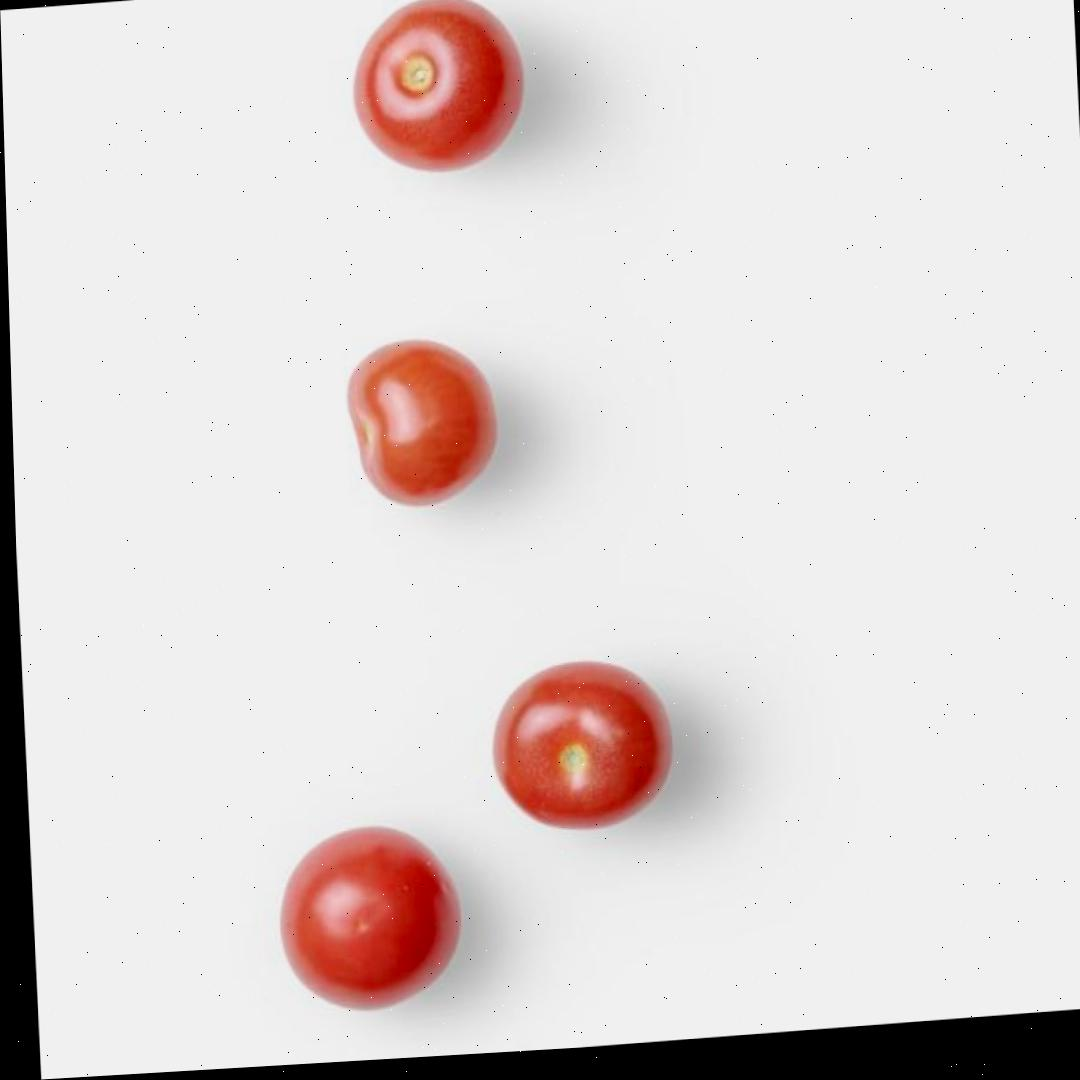matang: (274, 818, 465, 1020), (488, 652, 676, 838), (348, 0, 533, 179), (344, 331, 503, 513)
